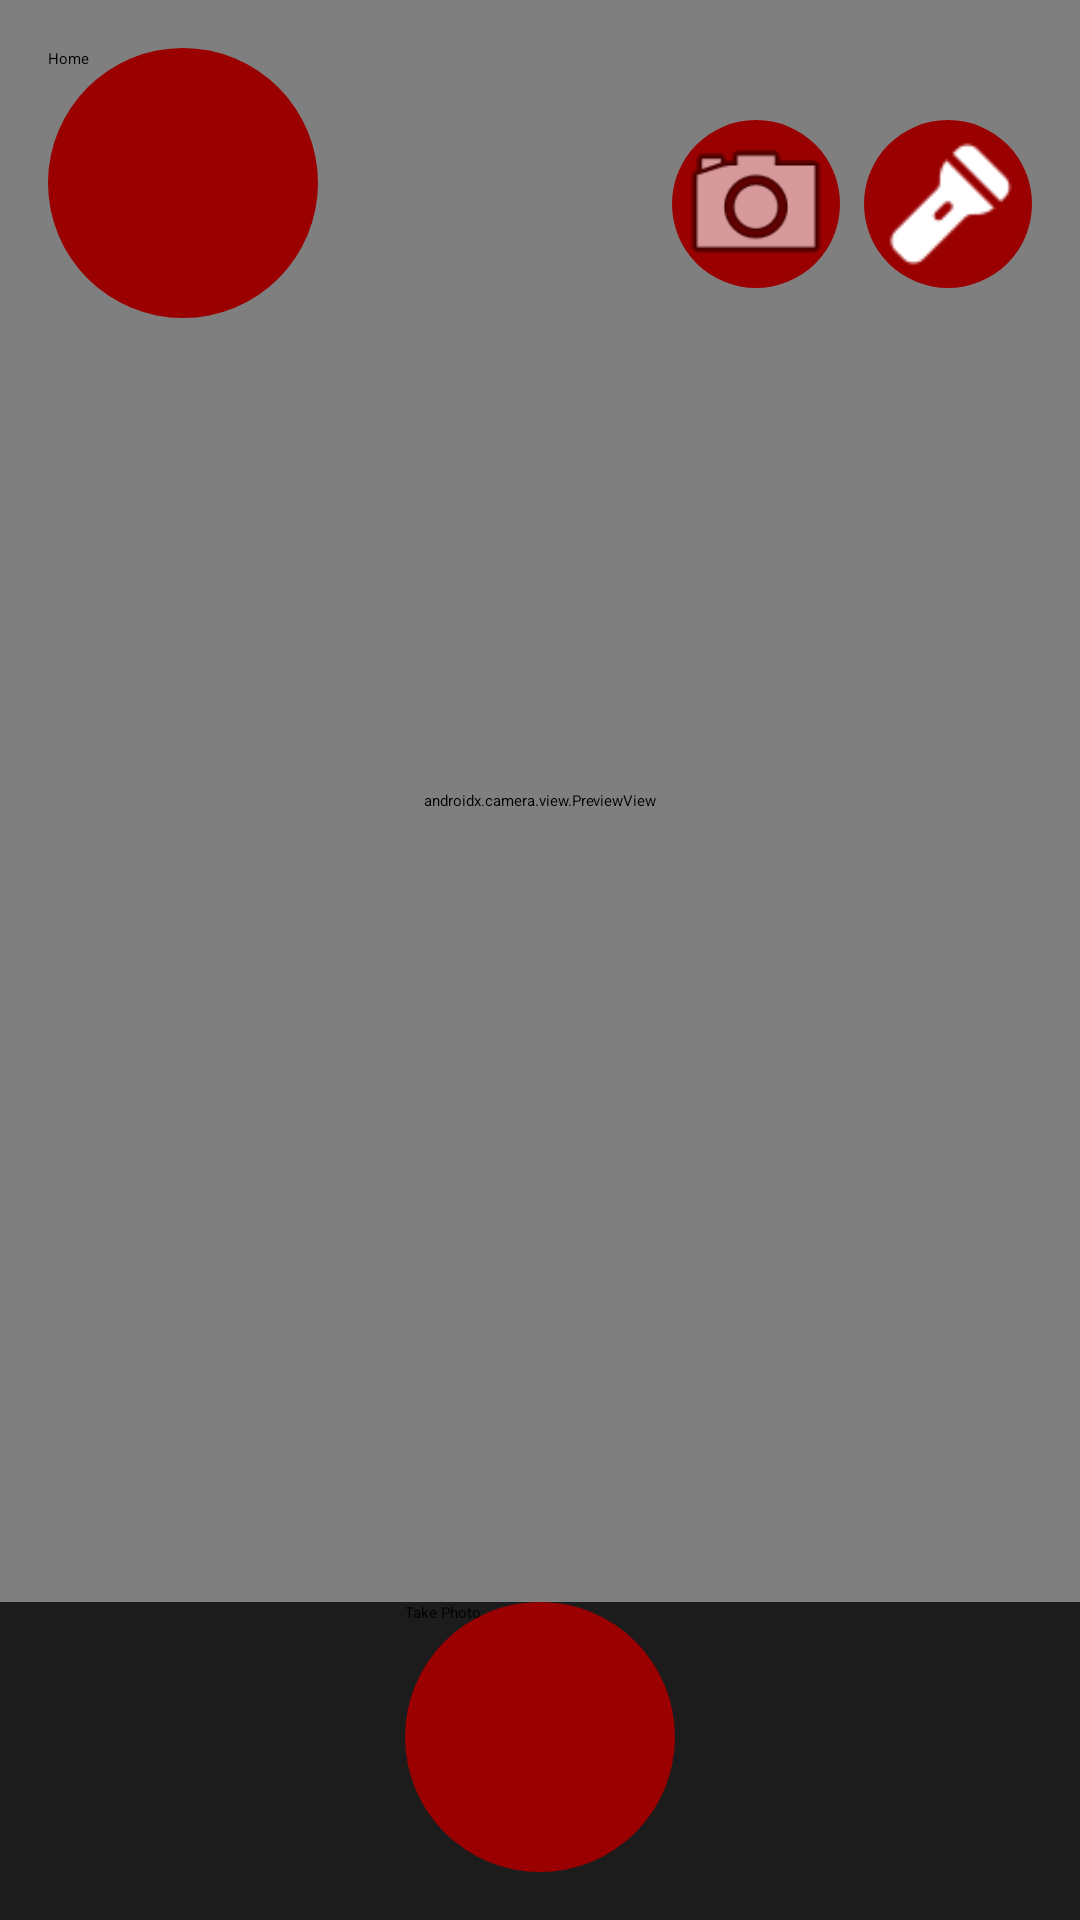

Screen size 1080w x 1920h. Icon name, then its box in pixels as (x1, y1, x2, y2):
flash off: (864, 120, 1032, 288)
